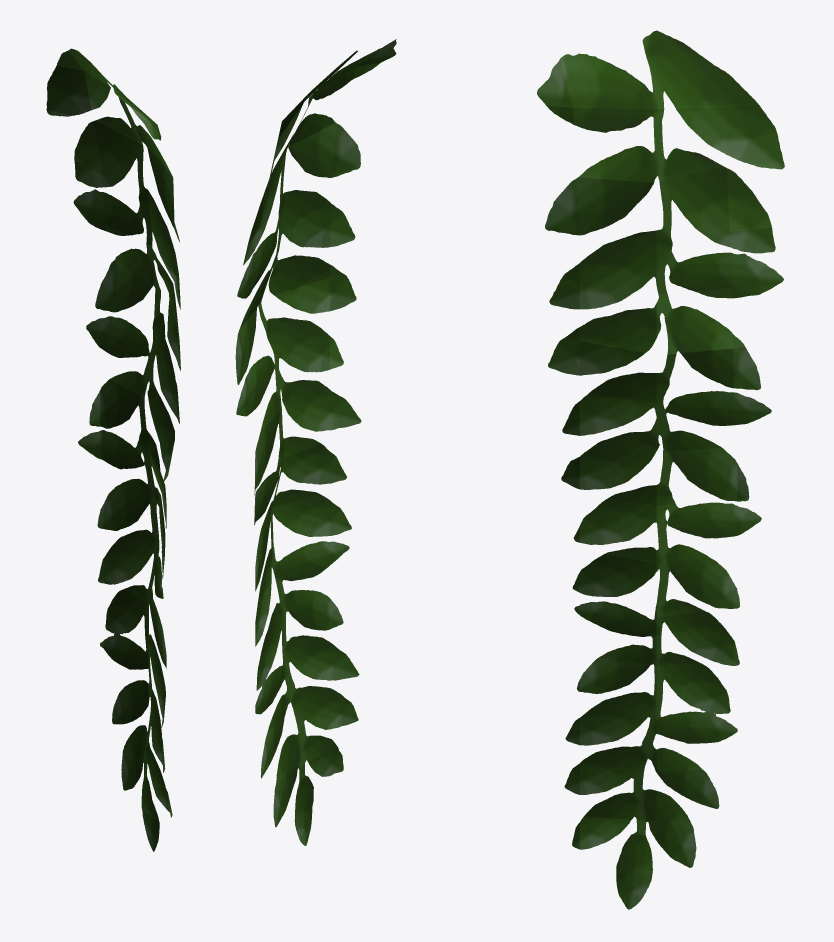
The model's file is HangingVine1.fbx.
3 views of the same model, side by side, from view 1: azimuth 30°, elevation 25°; view 2: azimuth 150°, elevation 25°; view 3: azimuth 270°, elevation 25° (orthographic). The views are drawn at different scales.
Parts seen in each view (by area): view 1: Plane; view 2: Plane; view 3: Plane.
Boxes of the visible parts, x1,y1,x2,y2 form: Plane: (46,48,180,851); Plane: (235,39,396,845); Plane: (537,30,784,909).
Size of the model in its own units: 101 by 643 by 217.
